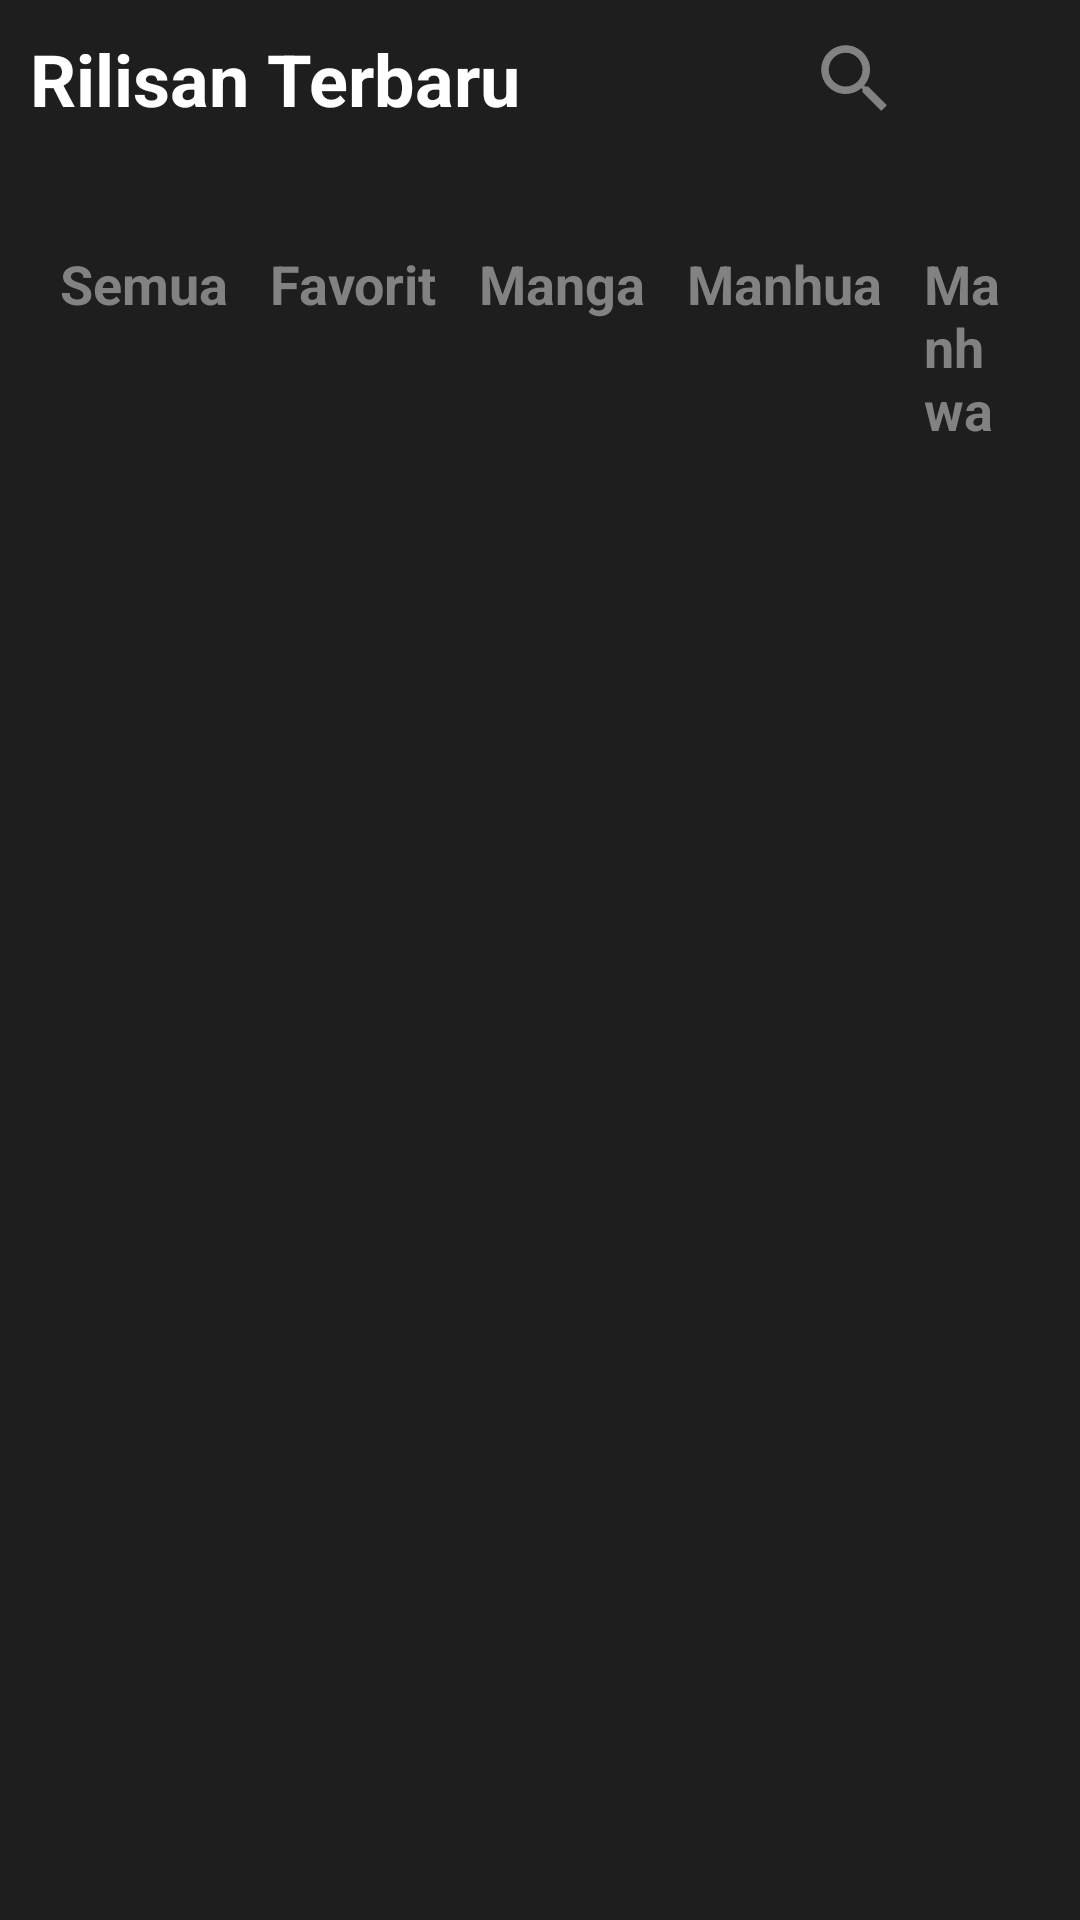

Icon bounding boxes for this 1080x1920 phone screenshot, format rect(x1, y1, x2, y2):
search: rect(821, 45, 887, 111)
